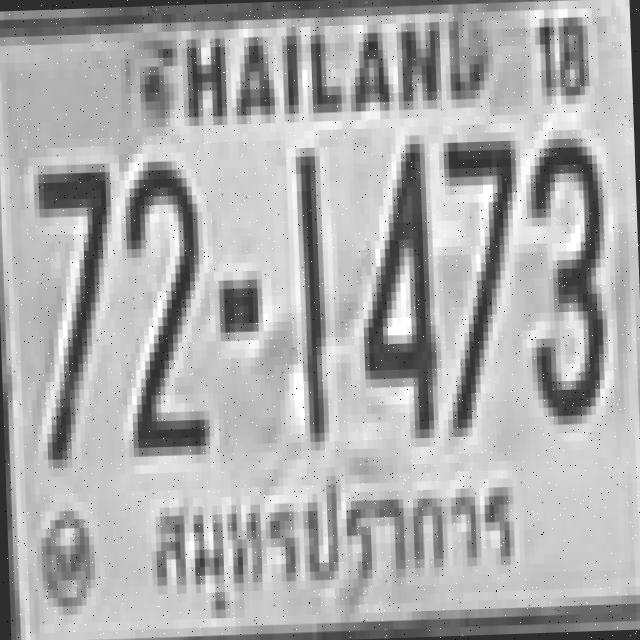1: (292, 142, 326, 438)
2: (118, 152, 205, 448)
3: (519, 128, 605, 416)
4: (352, 135, 434, 431)
7: (438, 132, 520, 428), (32, 163, 114, 459)
SamutPrakan: (142, 468, 525, 614)
